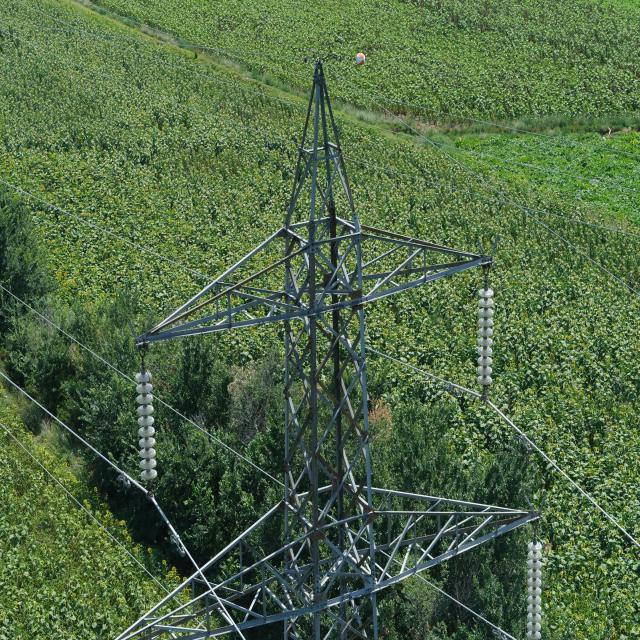direk: (276, 67, 383, 640)
tree: (71, 303, 241, 562), (175, 352, 279, 544), (1, 197, 52, 370)
